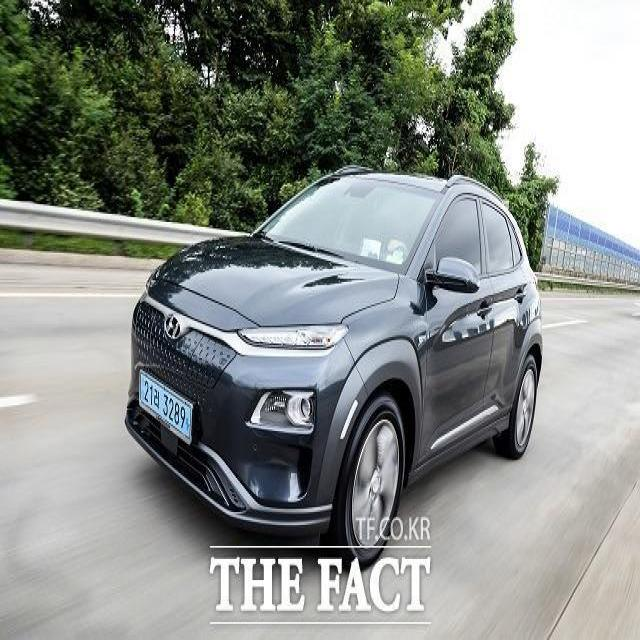EV_plate: (136, 366, 195, 446)
car: (128, 158, 546, 570)
